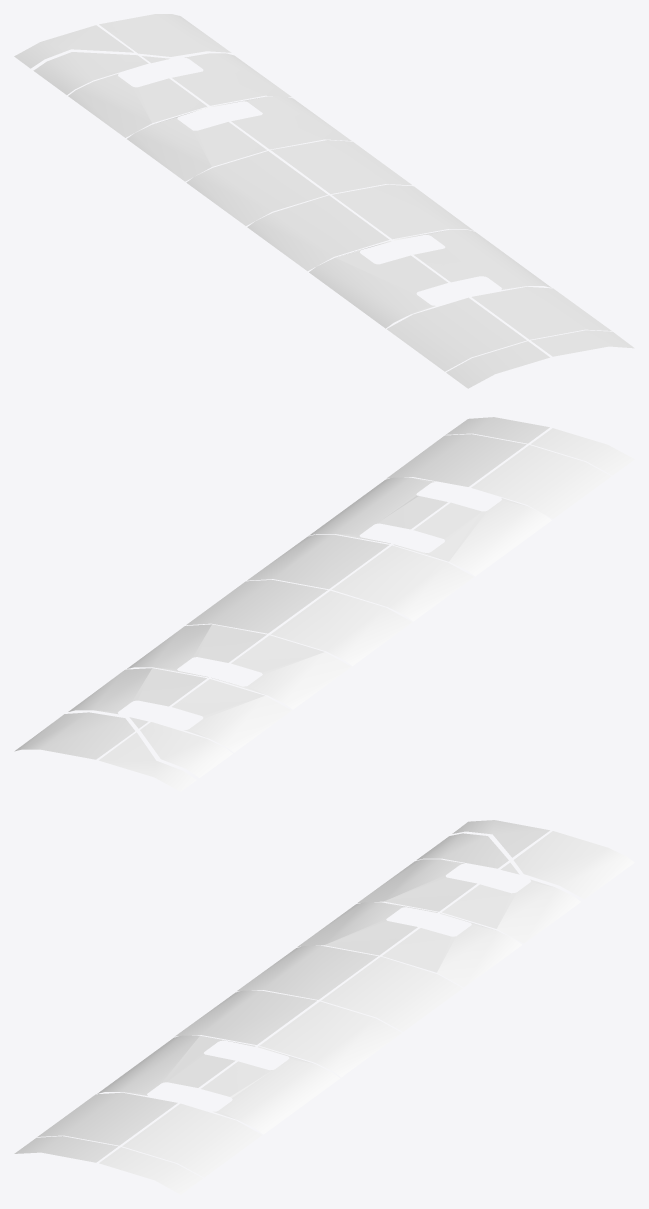
The picture shows the model from 3 angles, top to bottom: view 1: azimuth 30°, elevation 25°; view 2: azimuth 150°, elevation 25°; view 3: azimuth 330°, elevation 25°; orthographic projection.
Size of the model in its own units: 2.25 by 0.1555 by 10.59.
Materials: 1 (1 with a texture image).
